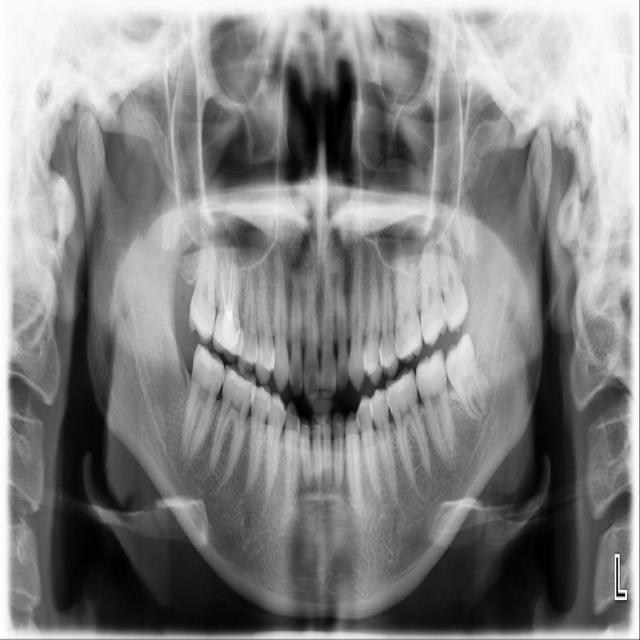Crown: (212, 316, 244, 363)
Root Canal Treatment: (228, 242, 234, 306), (235, 263, 240, 304), (221, 261, 225, 300)
impacted tooth: (445, 333, 487, 420), (439, 234, 469, 330)
